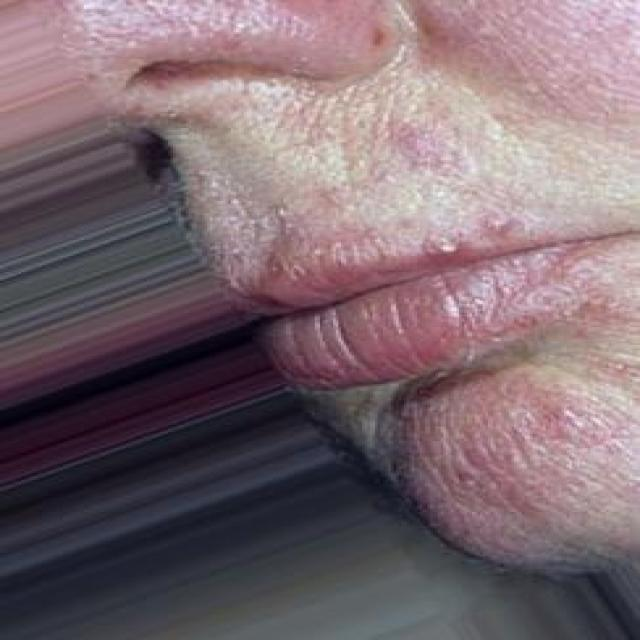Rosacea: (398, 384, 616, 518), (56, 0, 392, 80), (416, 3, 640, 120)
